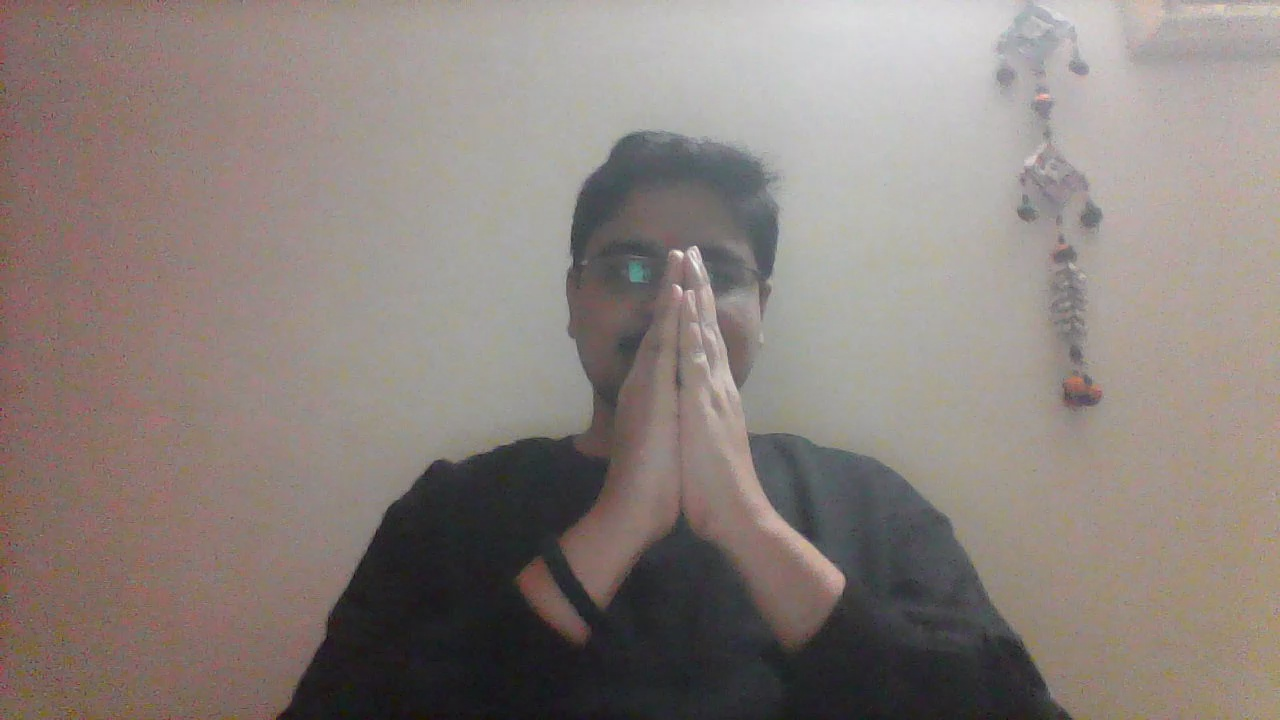Namaste: (579, 245, 766, 540)
